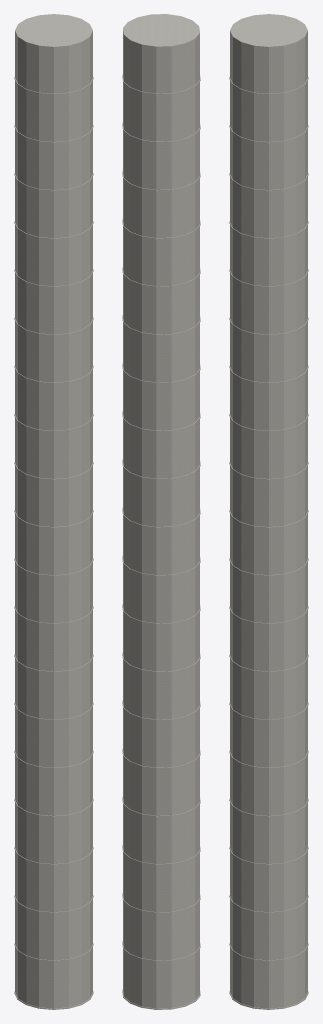
The model's file is Tower.gltf.
3 views of the same model, side by side, from view 1: azimuth 90°, elevation 25°; view 2: azimuth 150°, elevation 25°; view 3: azimuth 270°, elevation 25° (orthographic).
Visible parts, largest first — view 1: building_003; view 2: building_003; view 3: building_003.
Boxes of the visible parts, left/top/right/bottom form: building_003: left=14, top=14, right=93, bottom=1009; building_003: left=122, top=14, right=200, bottom=1009; building_003: left=229, top=14, right=308, bottom=1009.
Bounding box in the file's own units: 12.26 × 164 × 12.26.
1 material, 1 textured.
